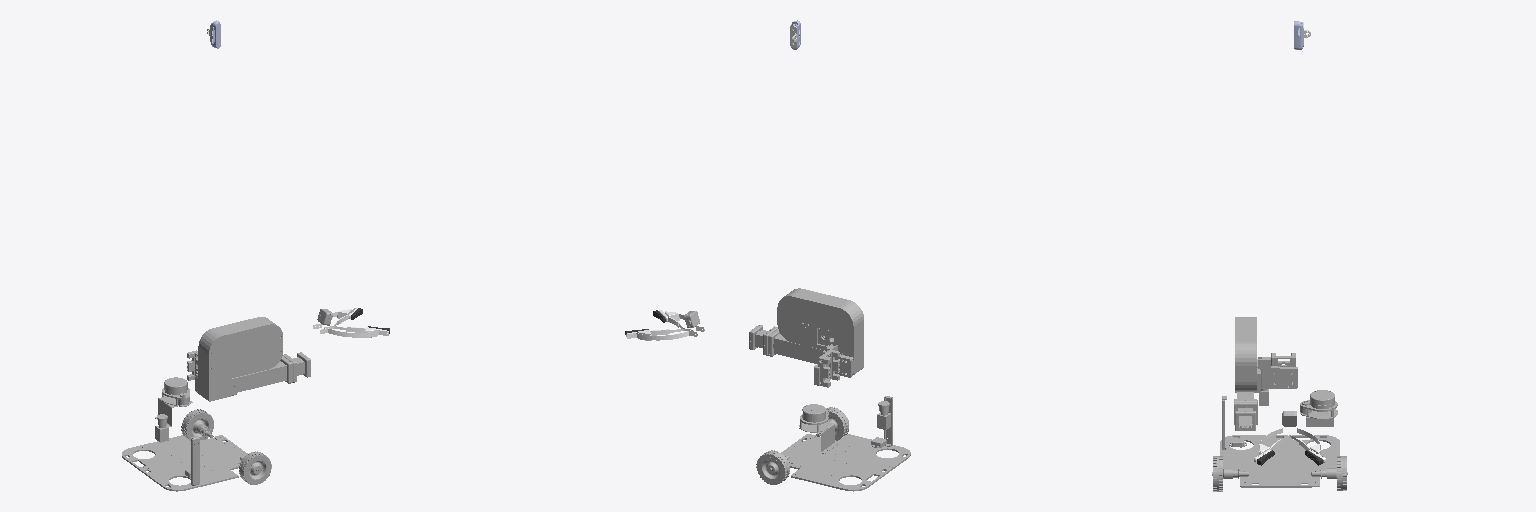
--- What the picture shows (computed from the rendered views, not written in the file) ---
The picture shows the robot from 3 angles, left to right: view 1: azimuth 30°, elevation 25°; view 2: azimuth 150°, elevation 25°; view 3: azimuth 270°, elevation 25°; orthographic projection.
Robot: konka_motion — 24 links, 23 joints (11 revolute, 4 prismatic, 8 fixed); root link ground_link; default pose: every joint at zero.
Visible links, largest first — view 1: link_lift, base_link, link_right_wheel, link_left_wheel, link_right_finger; view 2: link_lift, base_link, link_left_wheel, link_left_finger; view 3: base_link, link_lift, link_right_wheel, link_left_wheel.
Boxes of the visible links, x1,y1,x2,y2 form: link_lift: (187, 317, 292, 401); base_link: (122, 377, 247, 491); link_right_wheel: (239, 451, 271, 484); link_left_wheel: (181, 409, 213, 440); link_right_finger: (320, 326, 388, 337); link_lift: (768, 288, 863, 387); base_link: (781, 396, 910, 491); link_left_wheel: (756, 450, 789, 484); link_left_finger: (626, 329, 697, 340); base_link: (1220, 389, 1339, 487); link_lift: (1234, 317, 1297, 401); link_right_wheel: (1212, 456, 1248, 491); link_left_wheel: (1311, 456, 1347, 490).
Bounding box of the posed robot: 0.834 × 0.3852 × 1.46 m (x, y, z).
13 mesh visuals loaded from 20 distinct referenced files (13 binary STL); not drawn: 7 (reference not matched to a file when rendering).

robot.urdf — konka_motion:
<?xml version="1.0" encoding="utf-8"?>
<!-- This URDF was automatically created by SolidWorks to URDF Exporter! Originally created by Stephen Brawner ([email redacted]) 
     Commit Version: 1.6.0-4-g7f85cfe  Build Version: 1.6.7995.38578
     For more information, please see http://wiki.ros.org/sw_urdf_exporter -->
<robot
  name="konka_motion">
  <link name="ground_link"/>
  <link name="base_link_z">
    <inertial>
      <origin xyz="0. 0. 0." rpy="0. 0. 0."/>
      <mass value="0.000001"/>
      <inertia ixx="0." ixy="0." ixz="0." iyy="0." iyz="0." izz="0."/>
    </inertial>
  </link>
  <joint name="base_z" type="revolute">
    <origin xyz="0. 0. 0." rpy="0. 0. 0."/>
    <parent link="ground_link"/>
    <child link="base_link_z"/>
    <axis xyz="0. 0. 1."/>
    <limit lower="-6.0" upper="6.0" effort="100" velocity="1.5"/>
  </joint>
  <link
    name="base_link">
    <inertial>
      <origin
        xyz="-0.134386456438626 -0.0029635574533388 0.0162723957299908"
        rpy="0 0 0" />
      <mass
        value="1.62345380476899" />
      <inertia
        ixx="0.0102521793009218"
        ixy="-0.000137622284476433"
        ixz="-2.97249967180695E-06"
        iyy="0.0105024284991203"
        iyz="-2.61808281409741E-05"
        izz="0.0200126307730333" />
    </inertial>
    <visual>
      <origin
        xyz="0 0 0"
        rpy="0 0 0" />
      <geometry>
        <mesh
          filename="../meshes/base_link.STL" />
      </geometry>
      <material
        name="">
        <color
          rgba="0.752941176470588 0.752941176470588 0.752941176470588 1" />
      </material>
    </visual>
    <collision>
      <origin
        xyz="0 0 0"
        rpy="0 0 0" />
      <geometry>
        <mesh
          filename="../meshes/base_link.STL" />
      </geometry>
    </collision>
  </link>
  <joint name="base_fixed" type="fixed">
    <origin xyz="0. 0. 0.05" rpy="0. 0. 0."/>
    <parent link="base_link_z"/>
    <child link="base_link"/>
  </joint>
  <link
    name="link_left_wheel">
    <inertial>
      <origin
        xyz="1.2768616369091E-05 -4.43366311559182E-06 -0.0324391427791873"
        rpy="0 0 0" />
      <mass
        value="0.614259402757732" />
      <inertia
        ixx="0.000332643157382783"
        ixy="-1.12599594927163E-08"
        ixz="-1.85299097610504E-07"
        iyy="0.000332614640545352"
        iyz="6.43430424579014E-08"
        izz="0.000436884693388146" />
    </inertial>
    <visual>
      <origin
        xyz="0 0 0"
        rpy="0 0 0" />
      <geometry>
        <mesh
          filename="../meshes/link_left_wheel.STL" />
      </geometry>
      <material
        name="">
        <color
          rgba="0.752941176470588 0.752941176470588 0.752941176470588 1" />
      </material>
    </visual>
    <collision>
      <origin
        xyz="0 0 0"
        rpy="0 0 0" />
      <geometry>
        <mesh
          filename="../meshes/link_left_wheel.STL" />
      </geometry>
    </collision>
  </link>
  <joint
    name="joint_left_wheel"
    type="revolute">
    <origin
      xyz="0 0.192599945028044 0.000145516989955043"
      rpy="-1.57004078679594 0 0" />
    <parent
      link="base_link" />
    <child
      link="link_left_wheel" />
    <axis
      xyz="0 0 1" />
    <limit lower="-3.13" upper="3.13" effort="100" velocity="1.0"/>
  </joint>
  <link
    name="link_right_wheel">
    <inertial>
      <origin
        xyz="-6.5658817576808E-06 -1.18145727525283E-05 0.0324391427623859"
        rpy="0 0 0" />
      <mass
        value="0.614259402757732" />
      <inertia
        ixx="0.000332619304616668"
        ixy="1.54284701123084E-08"
        ixz="-9.5282980946905E-08"
        iyy="0.000332638493311467"
        iyz="-1.71455292240236E-07"
        izz="0.000436884693388146" />
    </inertial>
    <visual>
      <origin
        xyz="0 0 0"
        rpy="0 0 0" />
      <geometry>
        <mesh
          filename="../meshes/link_right_wheel.STL" />
      </geometry>
      <material
        name="">
        <color
          rgba="0.752941176470588 0.752941176470588 0.752941176470588 1" />
      </material>
    </visual>
    <collision>
      <origin
        xyz="0 0 0"
        rpy="0 0 0" />
      <geometry>
        <mesh
          filename="../meshes/link_right_wheel.STL" />
      </geometry>
    </collision>
  </link>
  <joint
    name="joint_right_wheel"
    type="revolute">
    <origin
      xyz="0 -0.192599945028044 -0.000145516989955071"
      rpy="-1.57004078679594 0 0" />
    <parent
      link="base_link" />
    <child
      link="link_right_wheel" />
    <axis
      xyz="0 0 1" />
    <limit lower="-3.13" upper="3.13" effort="100" velocity="1.0"/>
  </joint>
  <link
    name="link_mast">
    <inertial>
      <origin
        xyz="0.0258398513426664 0.028631401224958 0.467900104019929"
        rpy="0 0 0" />
      <mass
        value="6.18138650034138" />
      <inertia
        ixx="0.637662257415019"
        ixy="-0.000218992253647309"
        ixz="-0.00929685916784925"
        iyy="0.624235077725138"
        iyz="-0.00290164259795953"
        izz="0.0279704353207967" />
    </inertial>
    <visual>
      <origin
        xyz="0 0 0"
        rpy="0 0 0" />
      <geometry>
        <mesh
          filename="../meshes/link_mast.STL" />
      </geometry>
      <material
        name="">
        <color
          rgba="0.752941176470588 0.752941176470588 0.752941176470588 1" />
      </material>
    </visual>
    <collision>
      <origin
        xyz="0 0 0"
        rpy="0 0 0" />
      <geometry>
        <mesh
          filename="../meshes/link_mast.STL" />
      </geometry>
    </collision>
  </link>
  <joint
    name="joint_linkmast"
    type="fixed">
    <origin
      xyz="-0.165 -0.018631458667035 0.173985972848211"
      rpy="0.000755539998957646 0 0" />
    <parent
      link="base_link" />
    <child
      link="link_mast" />
    <axis
      xyz="0 0 0" />
  </joint>
  <link
    name="link_lift">
    <inertial>
      <origin
        xyz="-0.0867335200766273 -0.072830862176892 0.0739584361022941"
        rpy="0 0 0" />
      <mass
        value="2.18189187948171" />
      <inertia
        ixx="0.00452079175387906"
        ixy="-0.000115718692828965"
        ixz="0.00114589649702232"
        iyy="0.0106392420472737"
        iyz="-3.29952623386062E-06"
        izz="0.0081091147472212" />
    </inertial>
    <visual>
      <origin
        xyz="0 0 0"
        rpy="0 0 0" />
      <geometry>
        <mesh
          filename="../meshes/link_lift.STL" />
      </geometry>
      <material
        name="">
        <color
          rgba="0.752941176470588 0.752941176470588 0.752941176470588 1" />
      </material>
    </visual>
    <collision>
      <origin
        xyz="0 0 0"
        rpy="0 0 0" />
      <geometry>
        <mesh
          filename="../meshes/link_lift.STL" />
      </geometry>
    </collision>
  </link>
  <joint
    name="joint_lift"
    type="prismatic">
    <origin
      xyz="0.0293876763883446 -0.1085 0.061"
      rpy="0 0 3.14159265358979" />
    <parent
      link="link_mast" />
    <child
      link="link_lift" />
    <axis
      xyz="0 0 1" />
    <limit
      lower="0"
      upper="1.05"
      effort="150"
      velocity="1.0" />
    <dynamics damping="1000"/>
  </joint>
  <link
    name="link_arm_l2">
    <inertial>
      <origin
        xyz="-2.77555756156289E-17 -0.00747677548647019 -0.125906294012483"
        rpy="0 0 0" />
      <mass
        value="0.20407766260326" />
      <inertia
        ixx="0.000420999527312303"
        ixy="7.24962235162678E-20"
        ixz="1.53419953638658E-19"
        iyy="0.000419986933703547"
        iyz="-2.80888078509622E-10"
        izz="0.000124139491906804" />
    </inertial>
    <visual>
      <origin
        xyz="0 0 0"
        rpy="0 0 0" />
      <geometry>
        <mesh
          filename="../meshes/link_arm_l2.STL" />
      </geometry>
      <material
        name="">
        <color
          rgba="0.752941176470588 0.752941176470588 0.752941176470588 1" />
      </material>
    </visual>
    <collision>
      <origin
        xyz="0 0 0"
        rpy="0 0 0" />
      <geometry>
        <mesh
          filename="../meshes/link_arm_l2.STL" />
      </geometry>
    </collision>
  </link>
  <joint
    name="joint_arm_l2"
    type="prismatic">
    <origin
      xyz="-0.309 -0.03 0.038106"
      rpy="1.5708 0 -1.5708" />
    <parent
      link="link_lift" />
    <child
      link="link_arm_l2" />
    <axis
      xyz="0 0 1" />
    <limit
      lower="0"
      upper="0.16"
      effort="100"
      velocity="0.3" />
    <dynamics damping="500"/>
  </joint>
  <link
    name="link_arm_l1">
    <inertial>
      <origin
        xyz="0 0.00068762387390503 -0.118491699466605"
        rpy="0 0 0" />
      <mass
        value="0.159794024856601" />
      <inertia
        ixx="0.000334176222316651"
        ixy="5.92944959148203E-13"
        ixz="-1.02194238224496E-19"
        iyy="0.000333509141410478"
        iyz="-1.71589193710407E-10"
        izz="7.75474295549907E-05" />
    </inertial>
    <visual>
      <origin
        xyz="0 0 0"
        rpy="0 0 0" />
      <geometry>
        <mesh
          filename="../meshes/link_arm_l1.STL" />
      </geometry>
      <material
        name="">
        <color
          rgba="0.752941176470588 0.752941176470588 0.752941176470588 1" />
      </material>
    </visual>
    <collision>
      <origin
        xyz="0 0 0"
        rpy="0 0 0" />
      <geometry>
        <mesh
          filename="../meshes/link_arm_l1.STL" />
      </geometry>
    </collision>
  </link>
  <joint
    name="joint_arm_l1"
    type="prismatic">
    <origin
      xyz="0 -0.0081064 0.05"
      rpy="0 0 0" />
    <parent
      link="link_arm_l2" />
    <child
      link="link_arm_l1" />
    <axis
      xyz="0 0 1" />
    <limit
      lower="0"
      upper="0.16"
      effort="100"
      velocity="0.3" />
    <dynamics damping="500"/>
  </joint>
  <link
    name="link_arm_l0">
    <inertial>
      <origin
        xyz="0.0519744051948967 0.0477815068262361 -0.031124032944062"
        rpy="0 0 0" />
      <mass
        value="0.647193039992598" />
      <inertia
        ixx="0.000479462761380211"
        ixy="-1.64412374026322E-05"
        ixz="9.98940987402069E-08"
        iyy="0.00128430953836159"
        iyz="7.66311046809528E-06"
        izz="0.00108267736017755" />
    </inertial>
    <visual>
      <origin
        xyz="0 0 0"
        rpy="0 0 0" />
      <geometry>
        <mesh
          filename="../meshes/link_arm_l0.STL" />
      </geometry>
      <material
        name="">
        <color
          rgba="0.752941176470588 0.752941176470588 0.752941176470588 1" />
      </material>
    </visual>
    <collision>
      <origin
        xyz="0 0 0"
        rpy="0 0 0" />
      <geometry>
        <mesh
          filename="../meshes/link_arm_l0.STL" />
      </geometry>
    </collision>
  </link>
  <joint
    name="joint_arm_l0"
    type="prismatic">
    <origin
      xyz="0 0.00125 0.014"
      rpy="0 0 0" />
    <parent
      link="link_arm_l1" />
    <child
      link="link_arm_l0" />
    <axis
      xyz="0 0 1" />
    <limit
      lower="0"
      upper="0.16"
      effort="100"
      velocity="0.3" />
    <dynamics damping="500"/>
  </joint>
  <link
    name="link_yaw">
    <inertial>
      <origin
        xyz="0.0272928150356697 -0.0206481319921274 -0.00980364928418231"
        rpy="0 0 0" />
      <mass
        value="0.155159344900663" />
      <inertia
        ixx="5.65269362200297E-05"
        ixy="-2.20426633356647E-06"
        ixz="6.79328087987658E-10"
        iyy="0.000142475212708442"
        iyz="1.86810231854491E-08"
        izz="0.000175668181600691" />
    </inertial>
    <visual>
      <origin
        xyz="0 0 0"
        rpy="0 0 0" />
      <geometry>
        <mesh
          filename="../meshes/link_yaw.STL" />
      </geometry>
      <material
        name="">
        <color
          rgba="0.752941176470588 0.752941176470588 0.752941176470588 1" />
      </material>
    </visual>
    <collision>
      <origin
        xyz="0 0 0"
        rpy="0 0 0" />
      <geometry>
        <mesh
          filename="../meshes/link_yaw.STL" />
      </geometry>
    </collision>
  </link>
  <joint
    name="joint_yaw"
    type="revolute">
    <origin
      xyz="0.1255 0.0329 -0.0139999999999998"
      rpy="1.5707963267949 0 -3.14159265358979" />
    <parent
      link="link_arm_l0" />
    <child
      link="link_yaw" />
    <axis
      xyz="0 0 1" />
    <limit
      lower="-0.6"
      upper="2.6179938779914944"
      effort="100"
      velocity="1.5" />
    <dynamics damping="500"/>
  </joint>
  <link
    name="link_pitch">
    <inertial>
      <origin
        xyz="0.0119812946911165 4.66924359487919E-06 -0.035075597818908"
        rpy="0 0 0" />
      <mass
        value="0.133282783942938" />
      <inertia
        ixx="5.50258663889395E-05"
        ixy="-1.07499880428723E-12"
        ixz="8.36729111150783E-06"
        iyy="5.26806886915758E-05"
        iyz="1.723023785643E-11"
        izz="3.27771968529081E-05" />
    </inertial>
    <visual>
      <origin
        xyz="0 0 0"
        rpy="0 0 0" />
      <geometry>
        <mesh
          filename="../meshes/link_pitch.STL" />
      </geometry>
      <material
        name="">
        <color
          rgba="0.752941176470588 0.752941176470588 0.752941176470588 1" />
      </material>
    </visual>
    <collision>
      <origin
        xyz="0 0 0"
        rpy="0 0 0" />
      <geometry>
        <mesh
          filename="../meshes/link_pitch.STL" />
      </geometry>
    </collision>
  </link>
  <joint
    name="joint_pitch"
    type="revolute">
    <origin
      xyz="0.0238 0 -0.032"
      rpy="1.5708 0.1 1.5708" />
    <parent
      link="link_yaw" />
    <child
      link="link_pitch" />
    <axis
      xyz="0 0 1" />
    <limit
      lower="-1.599119487777778"
      upper="0.321"
      effort="100"
      velocity="1.5" />
    <dynamics damping="500"/>
  </joint>
  <link
    name="link_roll">
    <inertial>
      <origin
        xyz="-2.89195848417814E-05 -0.0376798183196644 0.0643353904322303"
        rpy="0 0 0" />
      <mass
        value="0.121829025389052" />
      <inertia
        ixx="5.31374023436403E-05"
        ixy="-9.76005080721726E-10"
        ixz="3.01395798963676E-09"
        iyy="6.03480709621298E-05"
        iyz="1.60050749407347E-07"
        izz="2.40878226683839E-05" />
    </inertial>
    <visual>
      <origin
        xyz="0 0 0"
        rpy="0 0 0" />
      <geometry>
        <mesh
          filename="../meshes/link_roll.STL" />
      </geometry>
      <material
        name="">
        <color
          rgba="1 1 1 1" />
      </material>
    </visual>
    <collision>
      <origin
        xyz="0 0 0"
        rpy="0 0 0" />
      <geometry>
        <mesh
          filename="../meshes/link_roll.STL" />
      </geometry>
    </collision>
  </link>
  <joint
    name="joint_roll"
    type="revolute">
    <origin
      xyz="0.02935 0 -0.0235"
      rpy="0 -1.5708 3.1415" />
    <parent
      link="link_pitch" />
    <child
      link="link_roll" />
    <axis
      xyz="0 0 1" />
    <limit
      lower="-3.13"
      upper="3.13"
      effort="100"
      velocity="1.5" />
    <dynamics damping="500"/>
  </joint>
  <link name="grasp_center">
    <inertial>
      <origin xyz="0. 0. 0." rpy="0. 0. 0."/>
      <mass value="0.000001"/>
      <inertia ixx="0." ixy="0." ixz="0." iyy="0." iyz="0." izz="0."/>
    </inertial>
  </link>
  <joint
    name="joint_grasp_center"
    type="fixed">
    <origin
      xyz="0 -0.055 0.245"
      rpy="0 -1.5707963267948966 1.5707963267948966" />
    <parent
      link="link_roll" />
    <child
      link="grasp_center" />
    <axis
      xyz="0 0 0" />
  </joint>
  <link
    name="link_left_finger">
    <inertial>
      <origin
        xyz="-0.114744698410465 -0.0498383541703534 -0.00746862446376334"
        rpy="0 0 0" />
      <mass
        value="0.0299417572217902" />
      <inertia
        ixx="7.05723584660976E-06"
        ixy="-8.18061209276055E-06"
        ixz="-2.16411007946283E-08"
        iyy="1.7674711405082E-05"
        iyz="-1.35392572440682E-08"
        izz="2.24650542376446E-05" />
    </inertial>
    <visual>
      <origin
        xyz="0 0 0"
        rpy="0 0 0" />
      <geometry>
        <mesh
          filename="../meshes/link_left_finger.STL" />
      </geometry>
      <material
        name="">
        <color
          rgba="1 1 1 1" />
      </material>
    </visual>
    <collision>
      <origin
        xyz="0 0 0"
        rpy="0 0 0" />
      <geometry>
        <mesh
          filename="../meshes/link_left_finger.STL" />
      </geometry>
    </collision>
  </link>
  <joint
    name="joint_left_finger"
    type="revolute">
    <origin
      xyz="-0.0206 -0.057 0.10403"
      rpy="1.5708 1.5708 0" />
    <parent
      link="link_roll" />
    <child
      link="link_left_finger" />
    <axis
      xyz="0 0 -1" />
    <limit
      lower="-0.5235987755982988"
      upper="0.5235987755982988"
      effort="100"
      velocity="1.5" />
  </joint>
  <link
    name="link_left_finger_tip">
    <inertial>
      <origin
        xyz="0.00151426490846374 -4.00144909429301E-08 -0.00574071333127769"
        rpy="0 0 0" />
      <mass
        value="0.010954389987442" />
      <inertia
        ixx="1.86017054999914E-06"
        ixy="2.19372644545635E-11"
        ixz="2.01506973777714E-06"
        iyy="4.43361445763762E-06"
        iyz="-1.56990043568784E-11"
        izz="3.13133227560294E-06" />
    </inertial>
    <visual>
      <origin
        xyz="0 0 0"
        rpy="0 0 0" />
      <geometry>
        <mesh
          filename="../meshes/link_left_finger_tip.STL" />
      </geometry>
      <material
        name="">
        <color
          rgba="0.298039215686275 0.298039215686275 0.298039215686275 1" />
      </material>
    </visual>
    <collision>
      <origin
        xyz="0 0 0"
        rpy="0 0 0" />
      <geometry>
        <mesh
          filename="../meshes/link_left_finger_tip.STL" />
      </geometry>
    </collision>
  </link>
  <joint
    name="joint_left_finger_tip"
    type="fixed">
    <origin
      xyz="-0.15191 -0.044141 -0.0075"
      rpy="1.5708 0 -3.1416" />
    <parent
      link="link_left_finger" />
    <child
      link="link_left_finger_tip" />
    <axis
      xyz="0 1 0" />
  </joint>
  <link
    name="link_right_finger">
    <inertial>
      <origin
        xyz="-0.114744698410465 -0.0498383541703535 0.00746862841662832"
        rpy="0 0 0" />
      <mass
        value="0.02994175722179" />
      <inertia
        ixx="7.05723584666057E-06"
        ixy="-8.18061209276147E-06"
        ixz="2.16750283418599E-08"
        iyy="1.76747114051322E-05"
        iyz="1.35686225695102E-08"
        izz="2.24650542376416E-05" />
    </inertial>
    <visual>
      <origin
        xyz="0 0 0"
        rpy="0 0 0" />
      <geometry>
        <mesh
          filename="../meshes/link_right_finger.STL" />
      </geometry>
      <material
        name="">
        <color
          rgba="1 1 1 1" />
      </material>
    </visual>
    <collision>
      <origin
        xyz="0 0 0"
        rpy="0 0 0" />
      <geometry>
        <mesh
          filename="../meshes/link_right_finger.STL" />
      </geometry>
    </collision>
  </link>
  <joint
    name="joint_right_finger"
    type="revolute">
    <origin
      xyz="0.0206 -0.057 0.10403"
      rpy="-1.5708 1.5708 0" />
    <parent
      link="link_roll" />
    <child
      link="link_right_finger" />
    <axis
      xyz="0 0 1" />
    <limit
      lower="-0.5235987755982988"
      upper="0.5235987755982988"
      effort="100"
      velocity="1.5" />
  </joint>
  <link
    name="link_right_finger_tip">
    <inertial>
      <origin
        xyz="0.00151426490846418 -0.00574071333127785 4.00144913870193E-08"
        rpy="0 0 0" />
      <mass
        value="0.0109543899874422" />
      <inertia
        ixx="1.8601705499991E-06"
        ixy="2.01506973777736E-06"
        ixz="-2.19372644665949E-11"
        iyy="3.13133227560291E-06"
        iyz="1.56990043681769E-11"
        izz="4.43361445763754E-06" />
    </inertial>
    <visual>
      <origin
        xyz="0 0 0"
        rpy="0 0 0" />
      <geometry>
        <mesh
          filename="../meshes/link_right_finger_tip.STL" />
      </geometry>
      <material
        name="">
        <color
          rgba="0.298039215686275 0.298039215686275 0.298039215686275 1" />
      </material>
    </visual>
    <collision>
      <origin
        xyz="0 0 0"
        rpy="0 0 0" />
      <geometry>
        <mesh
          filename="../meshes/link_right_finger_tip.STL" />
      </geometry>
    </collision>
  </link>
  <joint
    name="joint_right_finger_tip"
    type="fixed">
    <origin
      xyz="-0.15191 -0.044141 0.0075"
      rpy="-3.1416 0 3.1416" />
    <parent
      link="link_right_finger" />
    <child
      link="link_right_finger_tip" />
    <axis
      xyz="0 0 1" />
  </joint>
  <link
    name="link_gripper_camera">
    <inertial>
      <origin
        xyz="3.30736058404314E-05 0.000223755392345981 -0.0121188975094917"
        rpy="0 0 0" />
      <mass
        value="0.0184927379038752" />
      <inertia
        ixx="3.1820171298716E-06"
        ixy="5.27161929305674E-09"
        ixz="-3.09328047364546E-09"
        iyy="3.36573547594482E-06"
        iyz="-9.33461708152667E-09"
        izz="6.07850825013886E-06" />
    </inertial>
    <visual>
      <origin
        xyz="0 0 0"
        rpy="0 0 0" />
      <geometry>
        <mesh
          filename="../meshes/link_gripper_camera.STL" />
      </geometry>
      <material
        name="">
        <color
          rgba="0.752941176470588 0.752941176470588 0.752941176470588 1" />
      </material>
    </visual>
    <collision>
      <origin
        xyz="0 0 0"
        rpy="0 0 0" />
      <geometry>
        <mesh
          filename="../meshes/link_gripper_camera.STL" />
      </geometry>
    </collision>
  </link>
  <joint
    name="joint_gripper_camera"
    type="fixed">
    <origin
      xyz="0 -0.084375 0.11165"
      rpy="-0.22689 0 0" />
    <parent
      link="link_roll" />
    <child
      link="link_gripper_camera" />
    <axis
      xyz="0 0 0" />
  </joint>
  <link
    name="link_head_pitch">
    <inertial>
      <origin
        xyz="0.0172959003249896 0.103642982193042 0.02825036288113"
        rpy="0 0 0" />
      <mass
        value="0.580790033978812" />
      <inertia
        ixx="0.00423801596737326"
        ixy="-0.000217125649654612"
        ixz="1.53469497813165E-05"
        iyy="0.00289024571132131"
        iyz="3.6170826234411E-05"
        izz="0.00171857268882932" />
    </inertial>
    <visual>
      <origin
        xyz="0 0 0"
        rpy="0 0 0" />
      <geometry>
        <mesh
          filename="../meshes/link_head_pitch.STL" />
      </geometry>
      <material
        name="">
        <color
          rgba="0.752941176470588 0.752941176470588 0.752941176470588 1" />
      </material>
    </visual>
    <collision>
      <origin
        xyz="0 0 0"
        rpy="0 0 0" />
      <geometry>
        <mesh
          filename="../meshes/link_head_pitch.STL" />
      </geometry>
    </collision>
  </link>
  <joint
    name="joint_head_pitch"
    type="revolute">
    <origin
      xyz="0.0395587489466813 -0.00390424565833469 1.31386462289597"
      rpy="1.57079632679498 0 -3.11282747052407" />
    <parent
      link="link_mast" />
    <child
      link="link_head_pitch" />
    <axis
      xyz="0 0 1" />
    <limit
      lower="-0.5235987755982988"
      upper="1.5708"
      effort="100"
      velocity="1.5" />
  </joint>
  <link
    name="link_head_pan">
    <inertial>
      <origin
        xyz="0.0128343218941624 -2.88261739172929E-05 -0.0165799091085648"
        rpy="0 0 0" />
      <mass
        value="0.0218854586956531" />
      <inertia
        ixx="3.00956277907349E-06"
        ixy="-1.3698119070307E-12"
        ixz="-2.04240673057936E-07"
        iyy="5.10107324100063E-06"
        iyz="1.69867818130313E-11"
        izz="3.90551799677432E-06" />
    </inertial>
    <visual>
      <origin
        xyz="0 0 0"
        rpy="0 0 0" />
      <geometry>
        <mesh
          filename="../meshes/link_head_pan.STL" />
      </geometry>
      <material
        name="">
        <color
          rgba="0.752941176470588 0.752941176470588 0.752941176470588 1" />
      </material>
    </visual>
    <collision>
      <origin
        xyz="0 0 0"
        rpy="0 0 0" />
      <geometry>
        <mesh
          filename="../meshes/link_head_pan.STL" />
      </geometry>
    </collision>
  </link>
  <joint
    name="joint_head_pan"
    type="revolute">
    <origin
      xyz="0.109996435818604 0.0970000000000077 1.22265"
      rpy="0 0 0" />
    <parent
      link="link_mast" />
    <child
      link="link_head_pan" />
    <axis
      xyz="0 0 1" />
    <limit
      lower="0"
      upper="2.6179938779914944"
      effort="100"
      velocity="1.5" />
  </joint>
  <link
    name="link_head_tlt">
    <inertial>
      <origin
        xyz="0.00925166002344137 2.22044604925031E-16 -0.0102882658329058"
        rpy="0 0 0" />
      <mass
        value="0.0171881171636052" />
      <inertia
        ixx="6.03058814392683E-06"
        ixy="-3.69614916394135E-20"
        ixz="2.87941007186303E-07"
        iyy="1.40085634243238E-06"
        iyz="-1.79066542119266E-20"
        izz="5.52011042265338E-06" />
    </inertial>
    <visual>
      <origin
        xyz="0 0 0"
        rpy="0 0 0" />
      <geometry>
        <mesh
          filename="../meshes/link_head_tlt.STL" />
      </geometry>
      <material
        name="">
        <color
          rgba="0.898039215686275 0.917647058823529 0.929411764705882 1" />
      </material>
    </visual>
    <collision>
      <origin
        xyz="0 0 0"
        rpy="0 0 0" />
      <geometry>
        <mesh
          filename="../meshes/link_head_tlt.STL" />
      </geometry>
    </collision>
  </link>
  <joint
    name="joint_head_tilt"
    type="revolute">
    <origin
      xyz="0.0365499999999995 0 -0.0332500000000002"
      rpy="1.57079632679489 0 -1.57079632679507" />
    <parent
      link="link_head_pan" />
    <child
      link="link_head_tlt" />
    <axis
      xyz="0 0 -1" />
    <limit
      lower="0"
      upper="3.14"
      effort="0"
      velocity="1.5" />
  </joint>
  <link
    name="head_camera_link">
    <inertial>
      <origin
        xyz="-2.78801756250086E-05 -0.00111316311408705 -0.0125214112852918"
        rpy="0 0 0" />
      <mass
        value="0.0456886094025219" />
      <inertia
        ixx="2.78344282550022E-05"
        ixy="1.46609701920487E-09"
        ixz="7.41196984387042E-09"
        iyy="4.13530150470514E-06"
        iyz="-4.09785958765581E-07"
        izz="2.75479904326436E-05" />
    </inertial>
    <visual>
      <origin
        xyz="0 0 0"
        rpy="0 0 0" />
      <geometry>
        <mesh
          filename="../meshes/head_camera_link.STL" />
      </geometry>
      <material
        name="">
        <color
          rgba="0.792156862745098 0.819607843137255 0.933333333333333 1" />
      </material>
    </visual>
    <collision>
      <origin
        xyz="0 0 0"
        rpy="0 0 0" />
      <geometry>
        <mesh
          filename="../meshes/head_camera_link.STL" />
      </geometry>
    </collision>
  </link>
  <joint
    name="joint_head_camera_link"
    type="fixed">
    <origin
      xyz="0.03795 0 -0.0125"
      rpy="0 1.5708 0" />
    <parent
      link="link_head_tlt" />
    <child
      link="head_camera_link" />
    <axis
      xyz="-1 0 0" />
  </joint>
  <link name="head_camera_frame">
    <inertial>
      <origin xyz="0. 0. 0." rpy="0. 0. 0."/>
      <mass value="0.000001"/>
      <inertia ixx="0." ixy="0." ixz="0." iyy="0." iyz="0." izz="0."/>
    </inertial>
  </link>
  <joint
    name="joint_head_camera_frame"
    type="fixed">
    <origin
      xyz="0 0 0"
      rpy="0 0 3.1415" />
    <parent
      link="head_camera_link" />
    <child
      link="head_camera_frame" />
    <axis
      xyz="-1 0 0" />
  </joint>
</robot>
